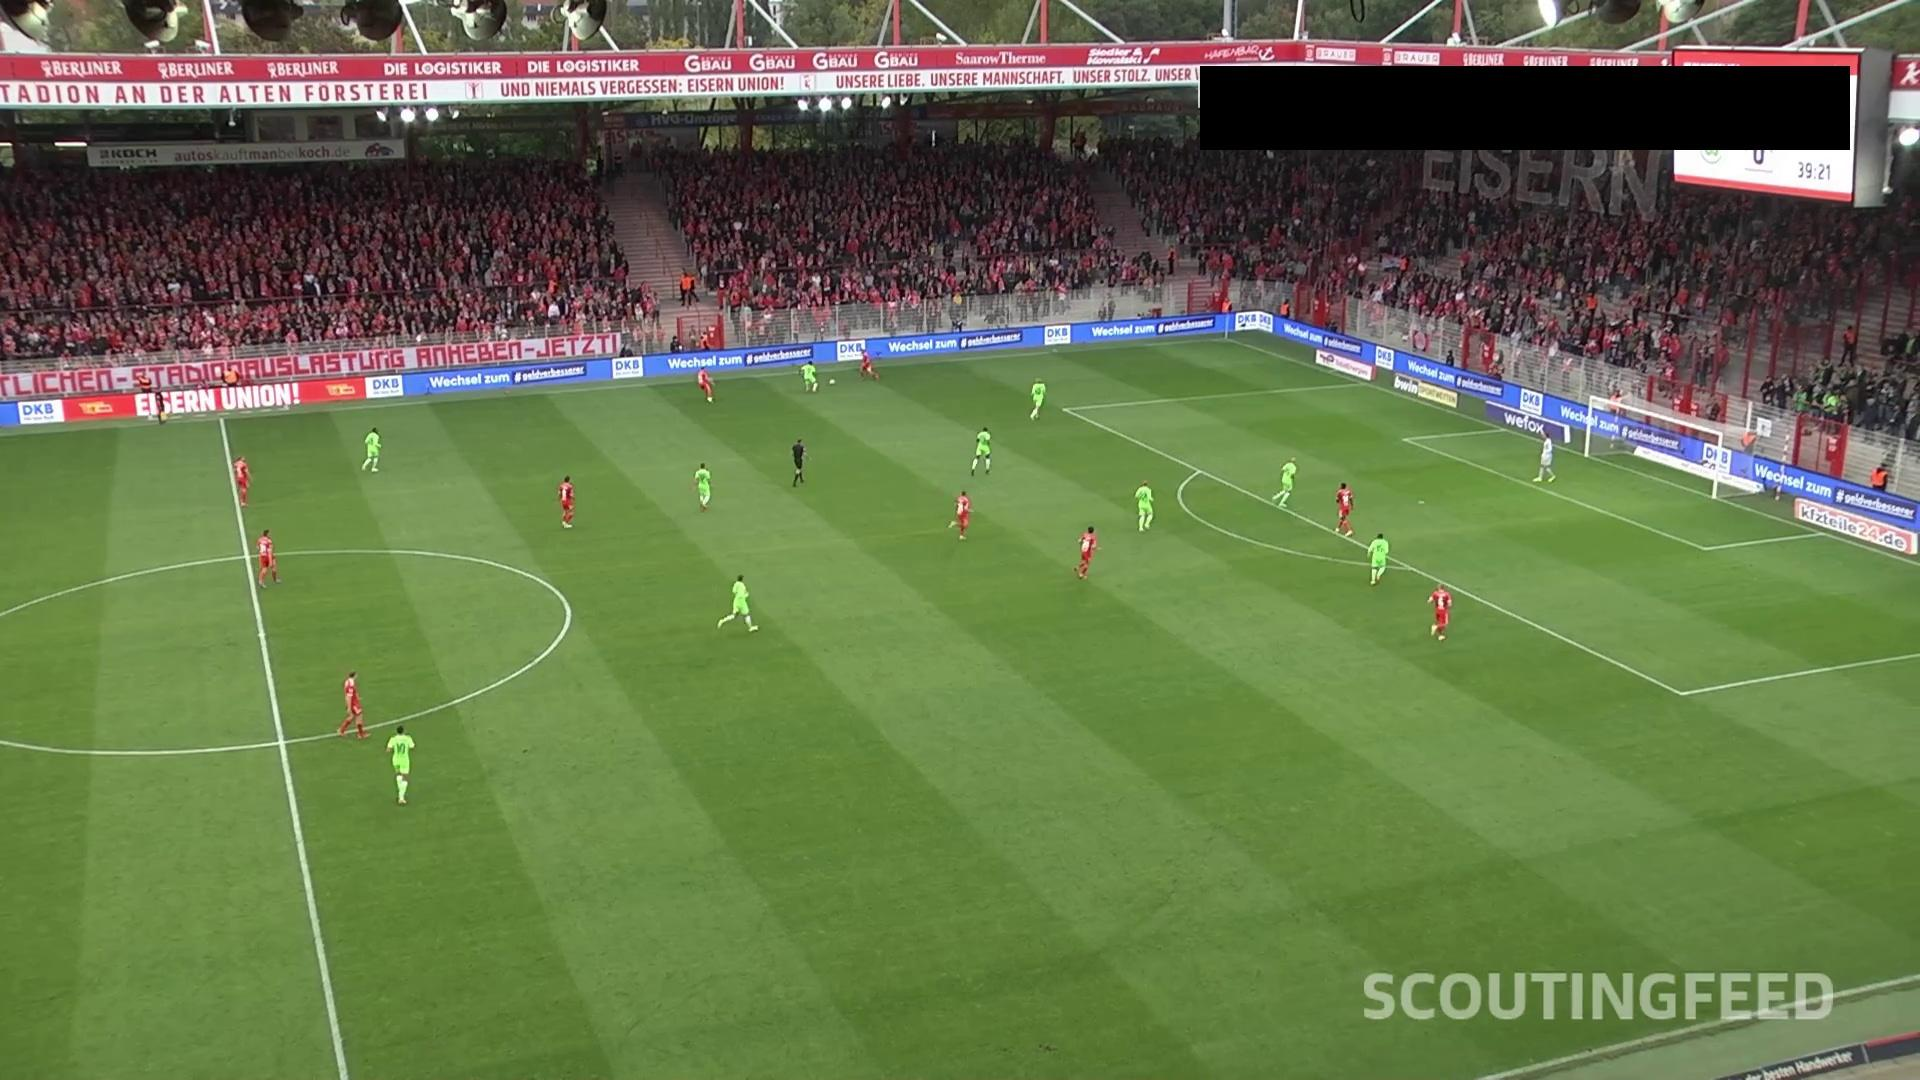Location-of-ball: (822, 372, 844, 390)
